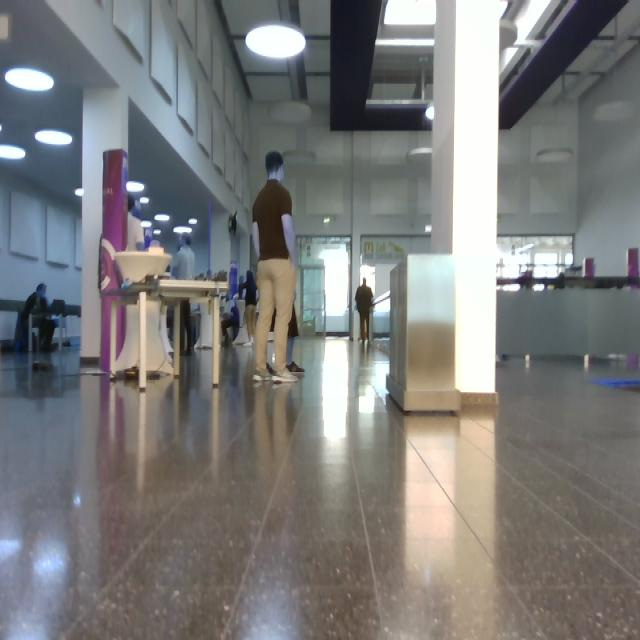door: (298, 265, 325, 336)
light bulb: (501, 1, 558, 76), (377, 1, 436, 54), (246, 25, 306, 60), (6, 68, 54, 92), (36, 130, 72, 146), (1, 145, 26, 160), (127, 181, 145, 192), (426, 104, 434, 122), (174, 226, 192, 234), (155, 214, 170, 222), (75, 188, 82, 197), (141, 197, 150, 204), (190, 218, 196, 225)
person: (253, 152, 297, 382), (16, 284, 47, 352), (237, 270, 257, 344), (171, 236, 195, 280), (180, 301, 195, 354)
pillar: (432, 1, 500, 393), (82, 90, 128, 357)
table: (101, 240, 227, 392)
tiled floor: (1, 341, 640, 640)
trash bin: (390, 256, 460, 409)
